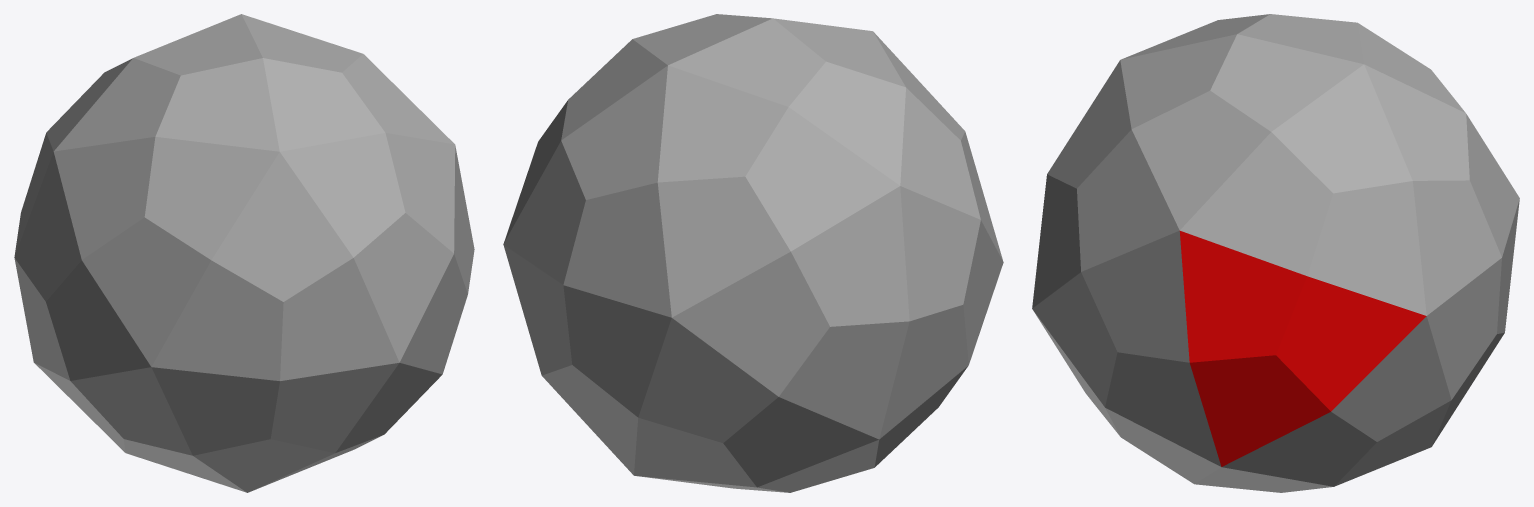
The model's file is polyform_4.glb.
The picture shows the model from 3 angles, left to right: view 1: azimuth 30°, elevation 25°; view 2: azimuth 150°, elevation 25°; view 3: azimuth 270°, elevation 25°; orthographic projection. The views are drawn at different scales.
Size of the model in its own units: 4.39 by 4.42 by 4.45.
